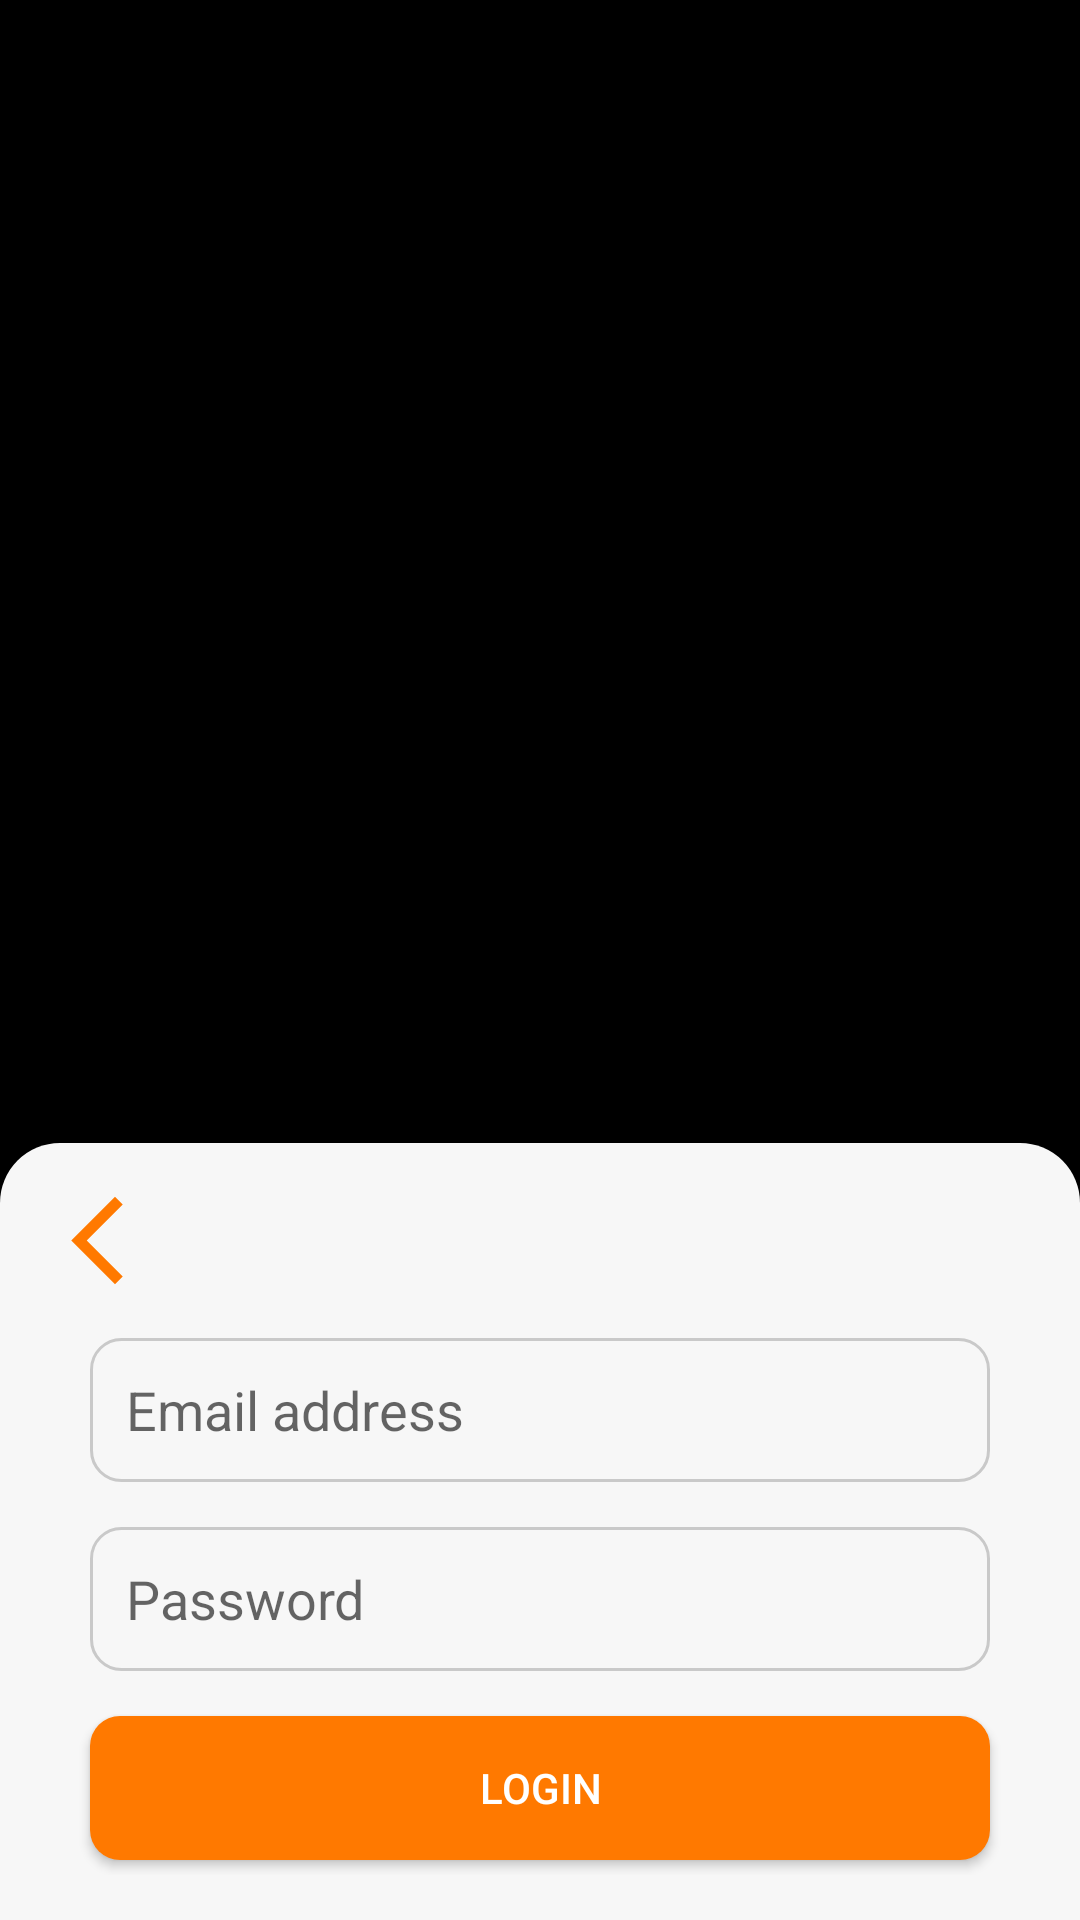

Screen size 1080w x 1920h. Icon name, then its box in pixels as bbox=[x1, y1, x2, y2]:
back: bbox=[71, 1197, 123, 1284]
